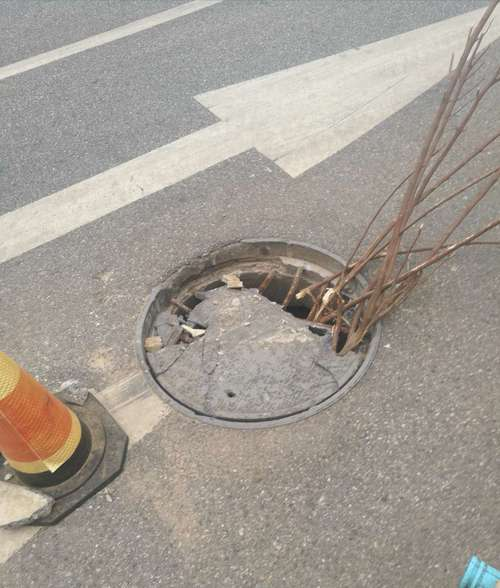broke: (126, 221, 398, 430)
